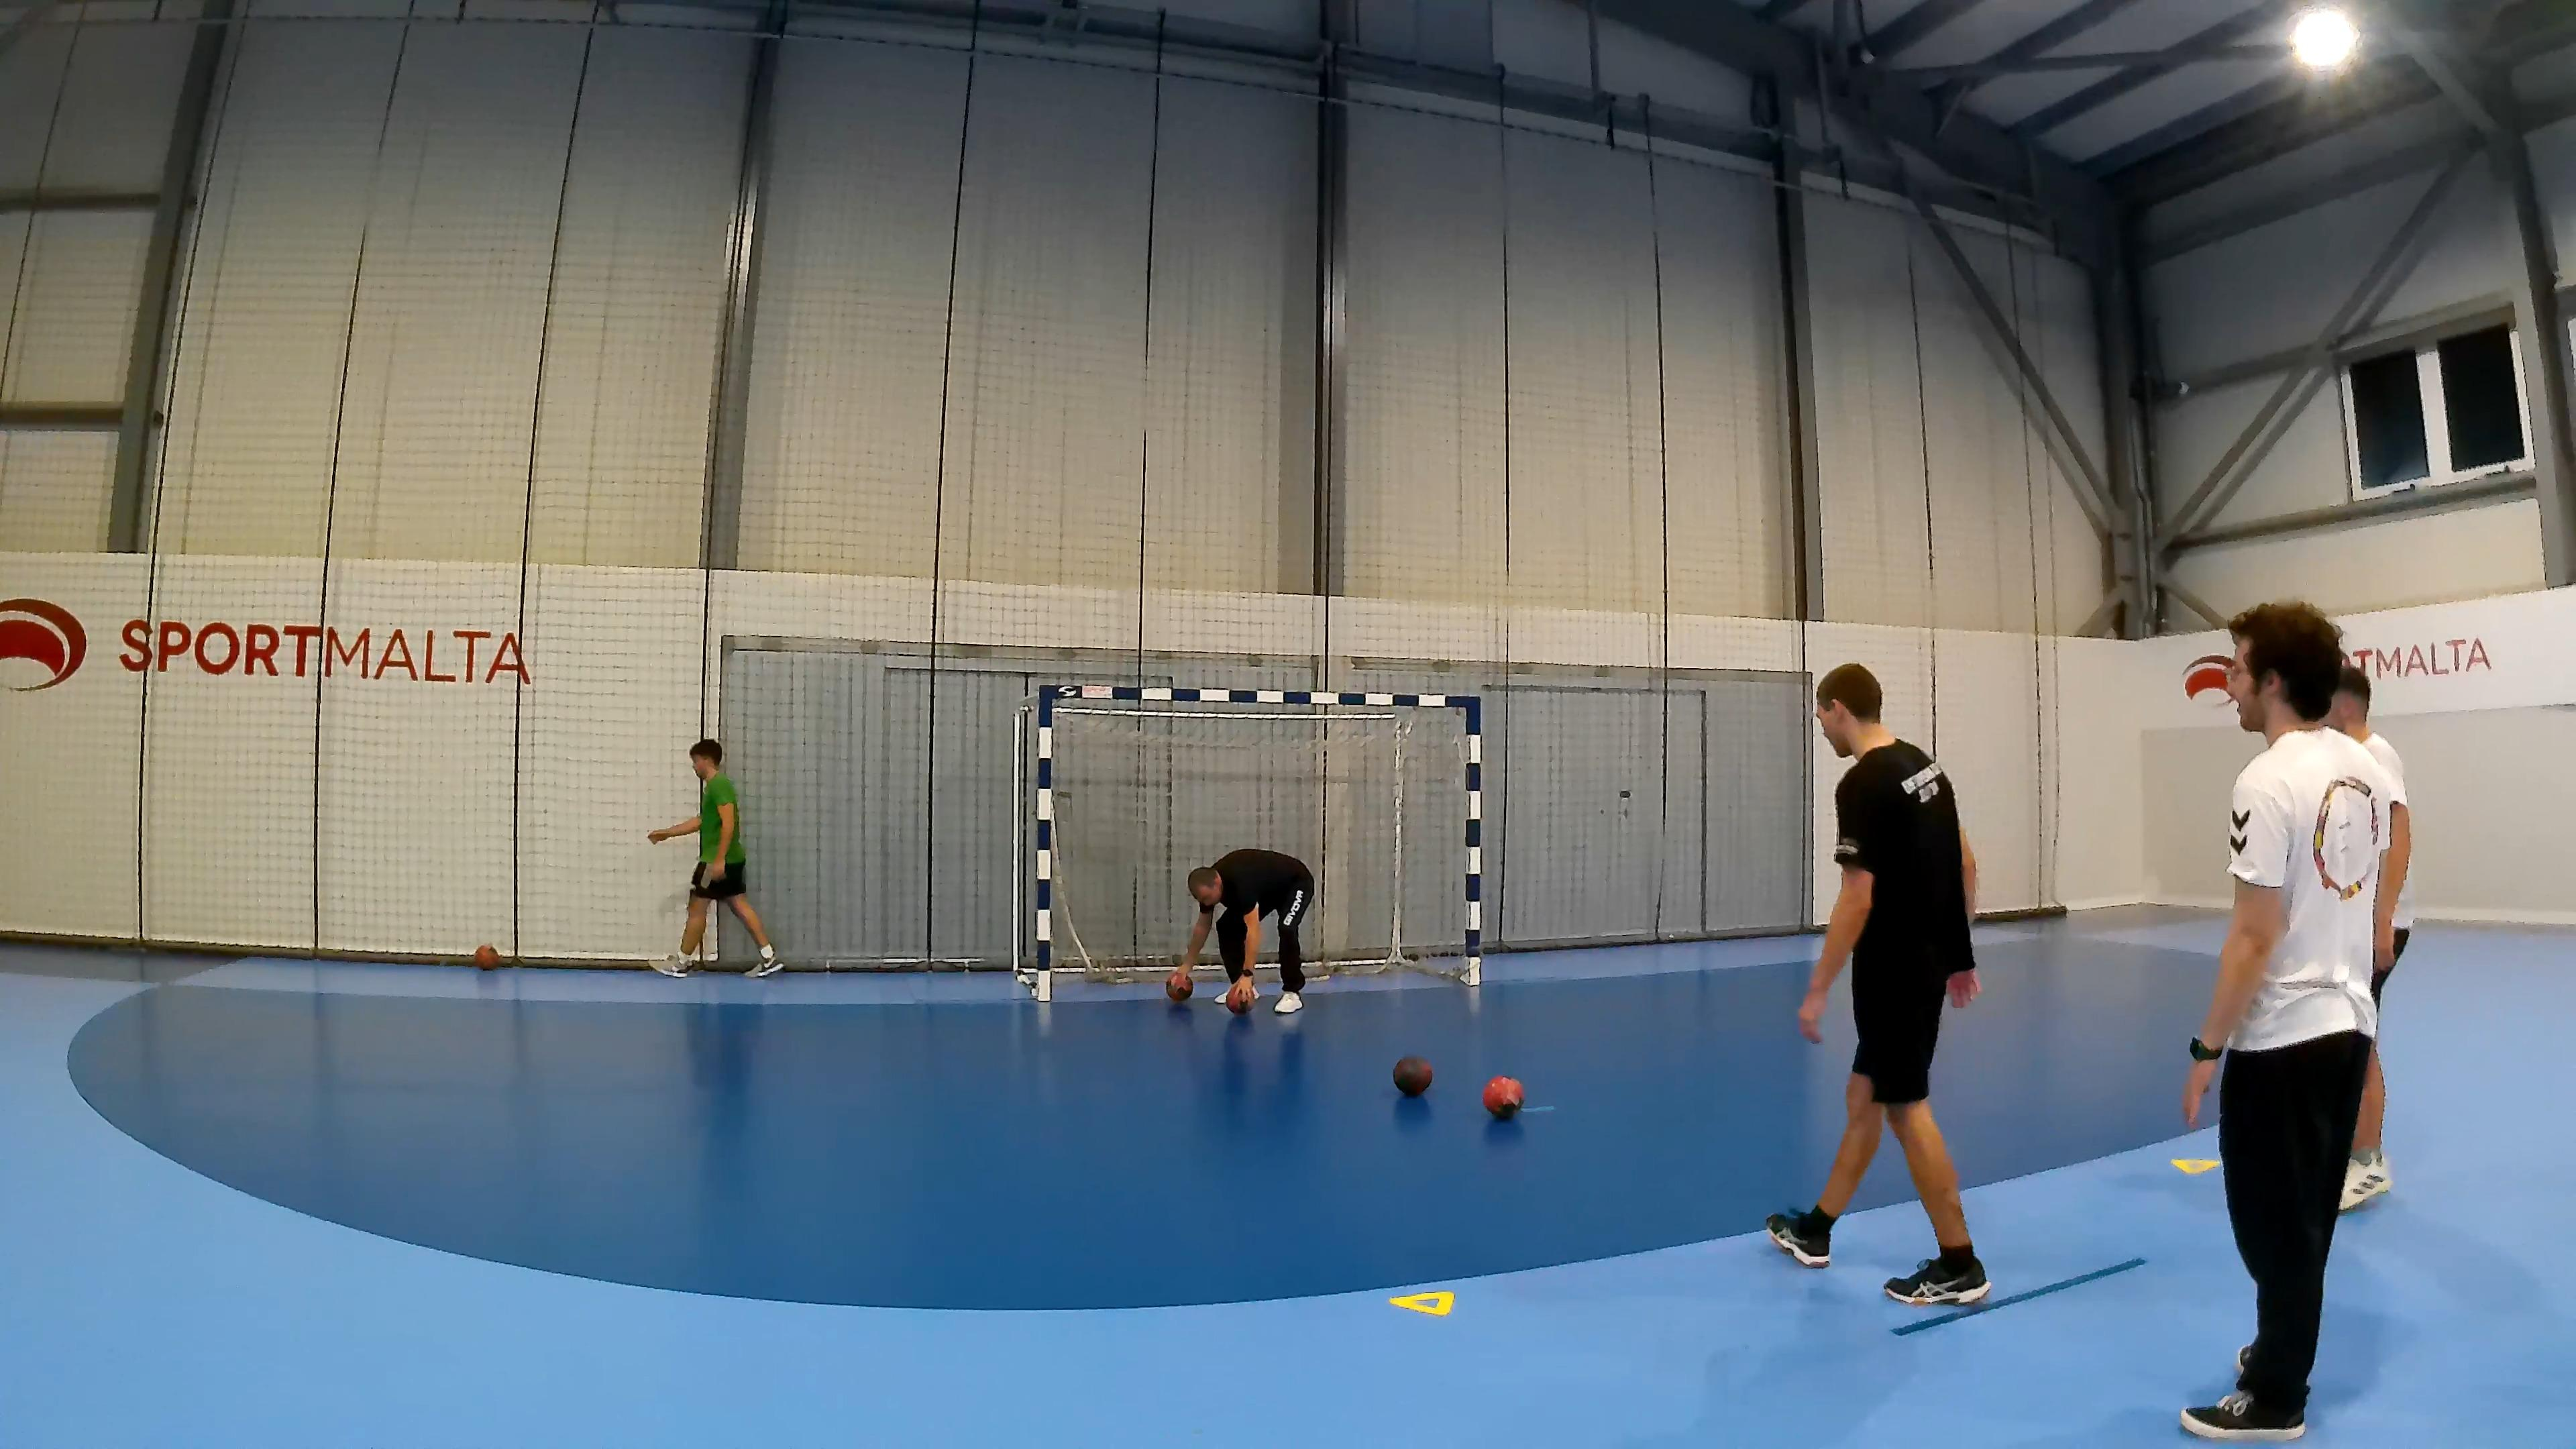handball: (1481, 1074, 1523, 1118), (1391, 1054, 1433, 1095), (1166, 971, 1192, 1001)
